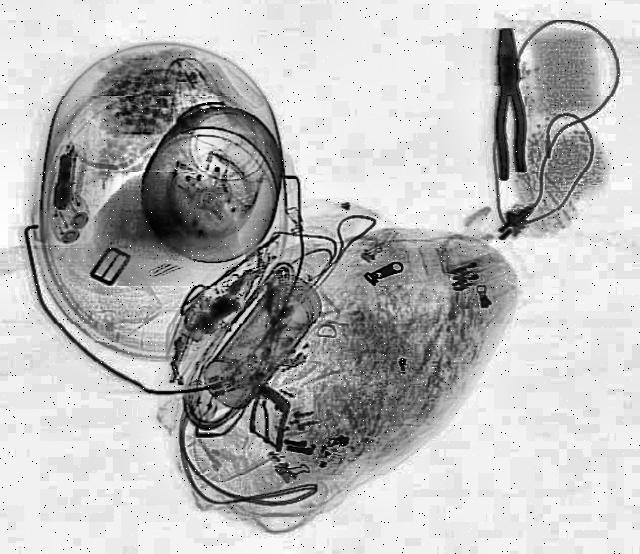Pliers: (490, 27, 530, 181)
